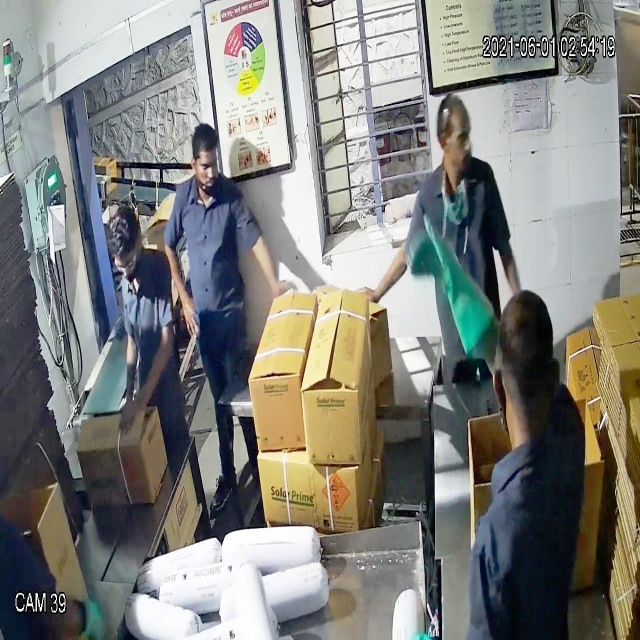Gafas: (111, 242, 145, 281)
Sin_gafas: (435, 123, 476, 158)
